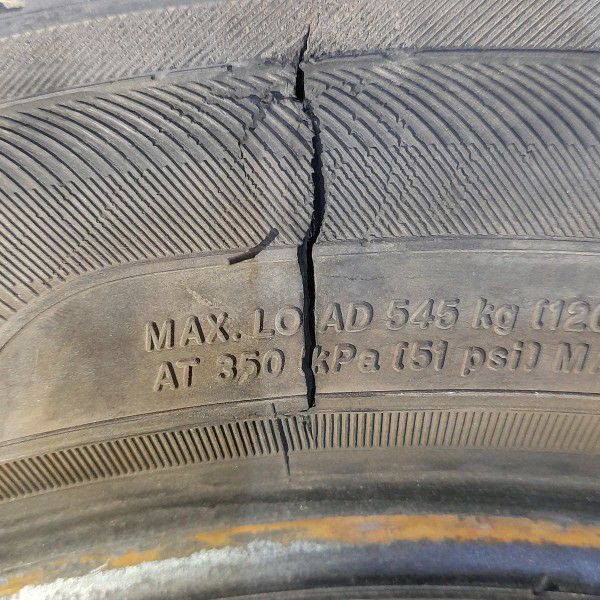cut: (289, 26, 331, 417), (227, 226, 282, 267)
